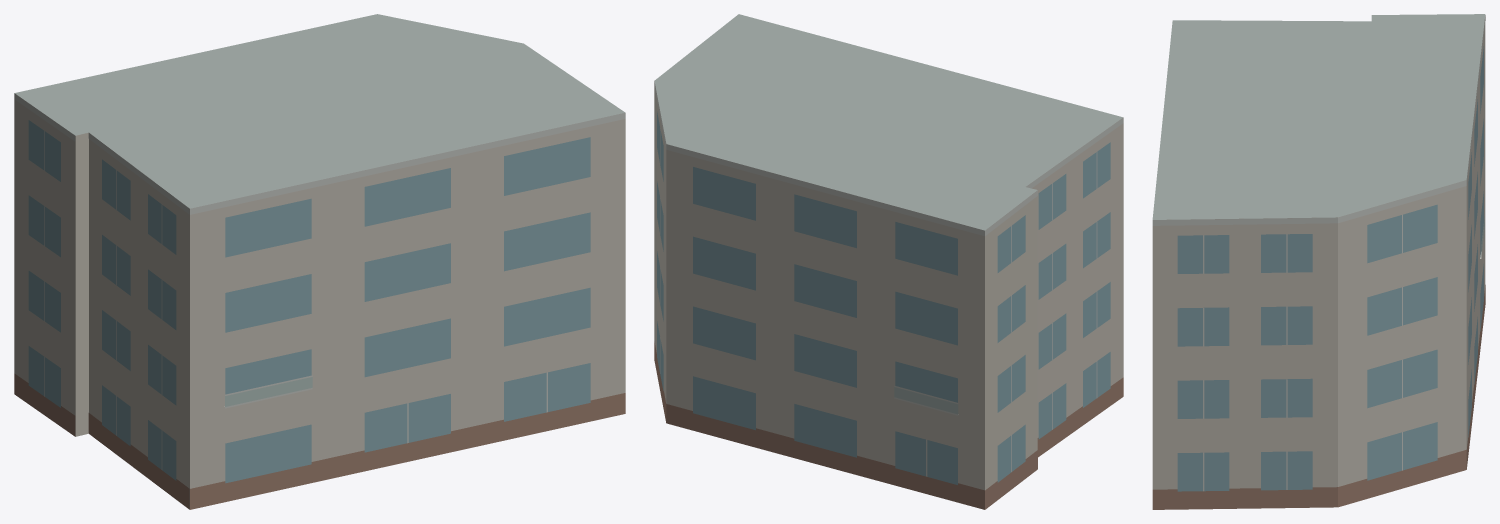
The model's file is survey-upis-32648952.glb.
3 renders of one model, left to right at view 1: azimuth 30°, elevation 25°; view 2: azimuth 150°, elevation 25°; view 3: azimuth 270°, elevation 25°, orthographic. The views are drawn at different scales.
Parts seen in each view (by area): view 1: survey-upis-32648952.tmp; view 2: survey-upis-32648952.tmp; view 3: survey-upis-32648952.tmp.
Boxes of the visible parts, x1,y1,x2,y2 form: survey-upis-32648952.tmp: [14, 14, 625, 509]; survey-upis-32648952.tmp: [654, 14, 1123, 509]; survey-upis-32648952.tmp: [1152, 14, 1485, 509].
Bounding box in the file's own units: 18.14 × 11.9 × 12.4.
